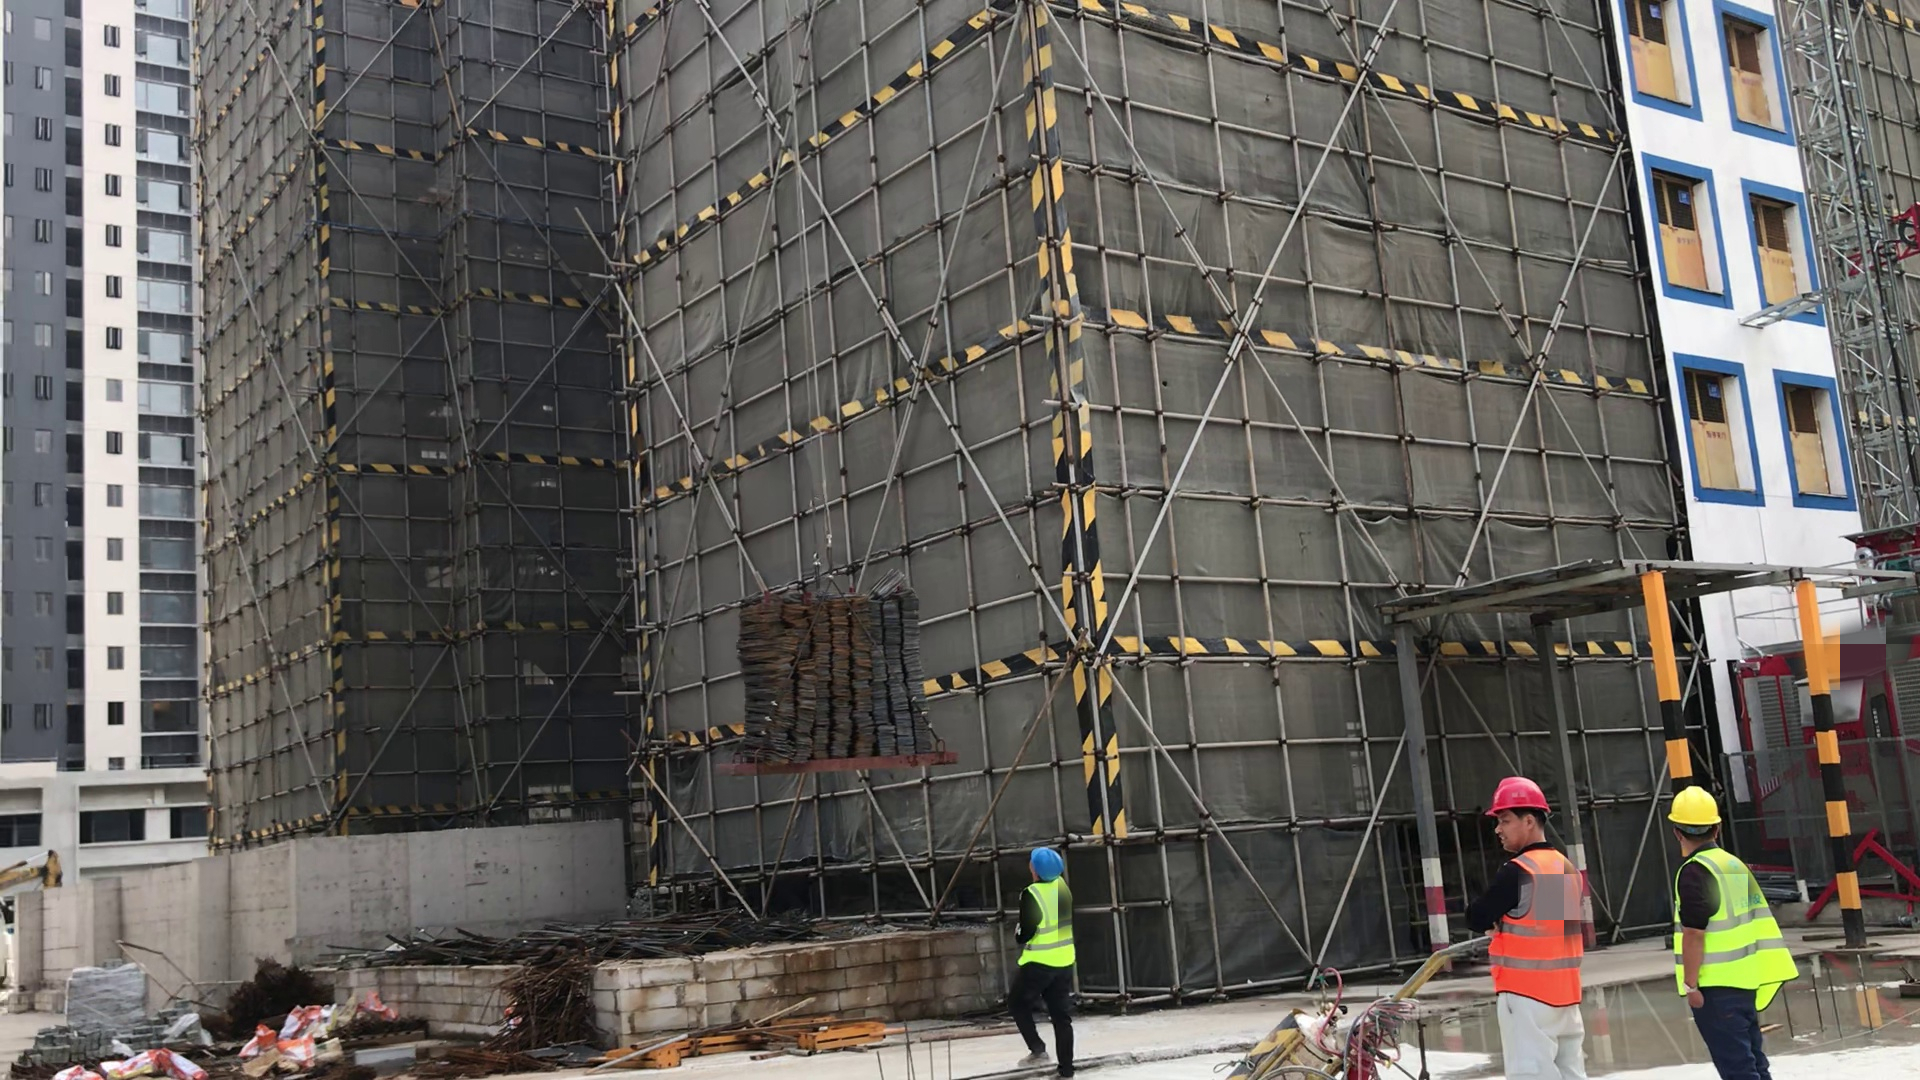brick: (23, 1016, 201, 1065)
handcart: (1246, 930, 1449, 1080)
helmet: (1482, 775, 1555, 822), (1668, 781, 1724, 832), (1030, 851, 1069, 881)
person: (1663, 779, 1804, 1080), (1469, 772, 1600, 1080), (1008, 844, 1097, 1080)
rebar: (738, 582, 944, 762), (382, 915, 808, 960), (502, 954, 608, 1051)
vest: (1669, 847, 1801, 1008), (1485, 845, 1589, 1008), (1021, 875, 1077, 970)
